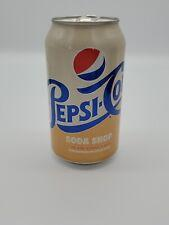metal: (46, 18, 125, 164)
